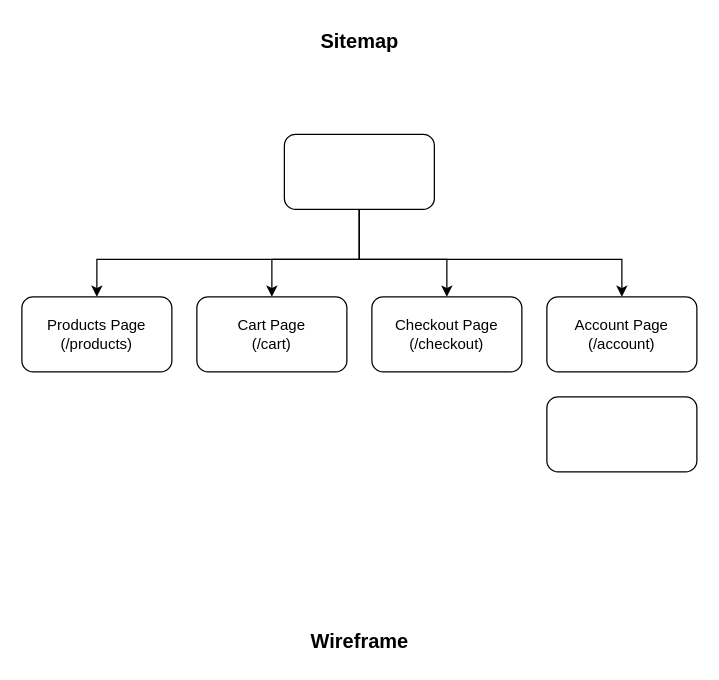
This 719x680 diagram has some shape labels left out. The shapes that lost their labels are listed below. From the top down, each one's box as (x1, y1, x2, y2) in pixels, then its label:
(283, 133, 434, 209): Homepage (/,/home)
(546, 396, 697, 472): Account page: For viewing products you bought, suggesting others, etc.
